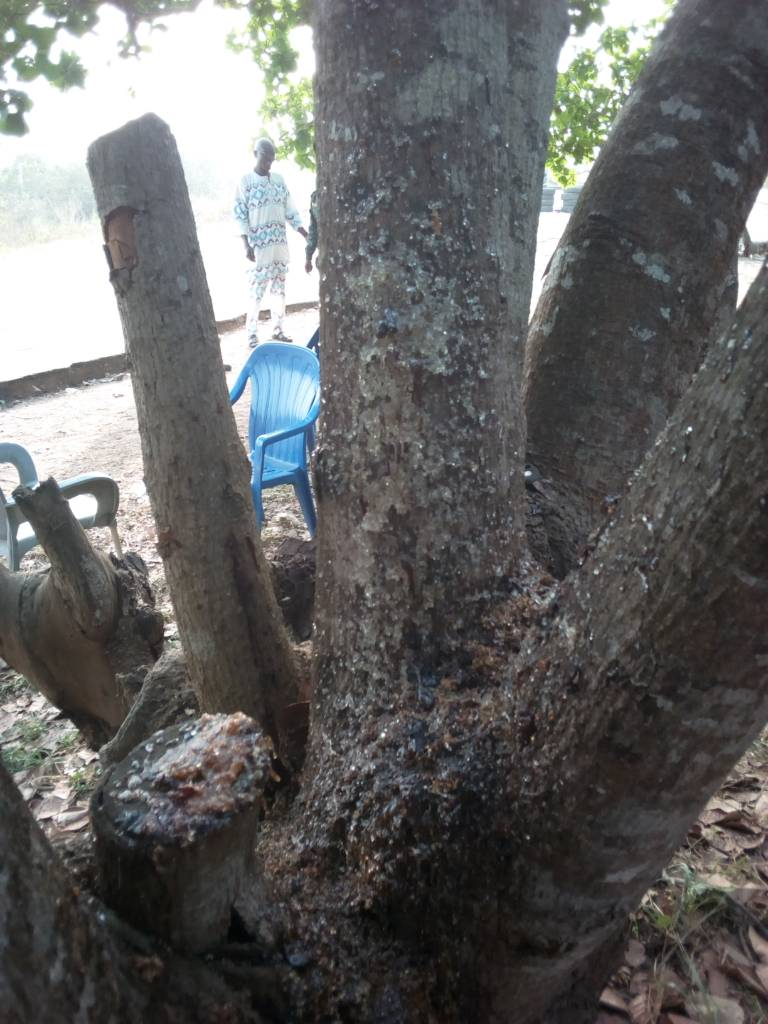Gommose: (311, 236, 561, 1024)
